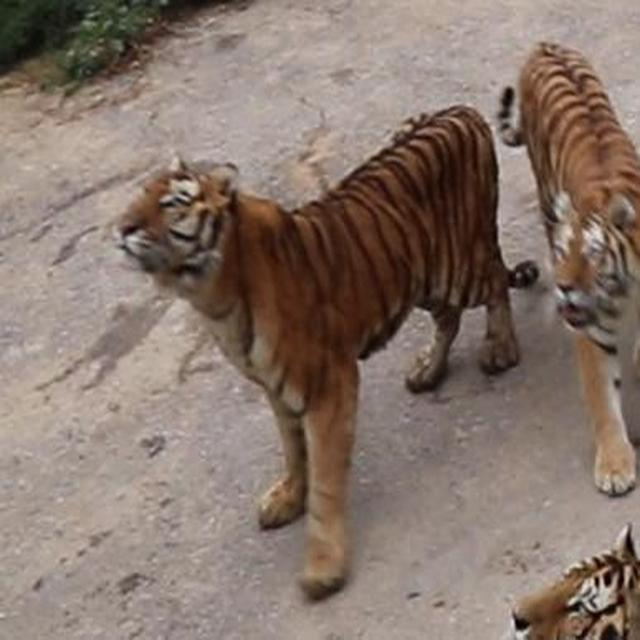tiger: (112, 101, 540, 601), (495, 37, 639, 497), (503, 520, 639, 639)
